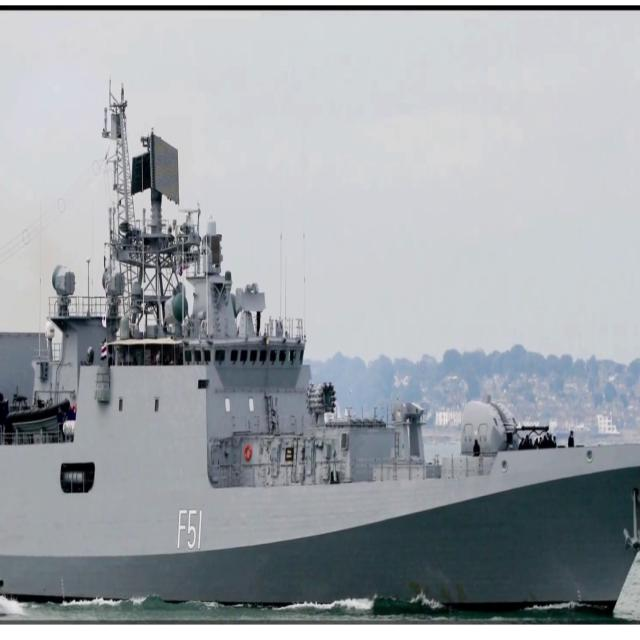OCR: (173, 505, 207, 557)
